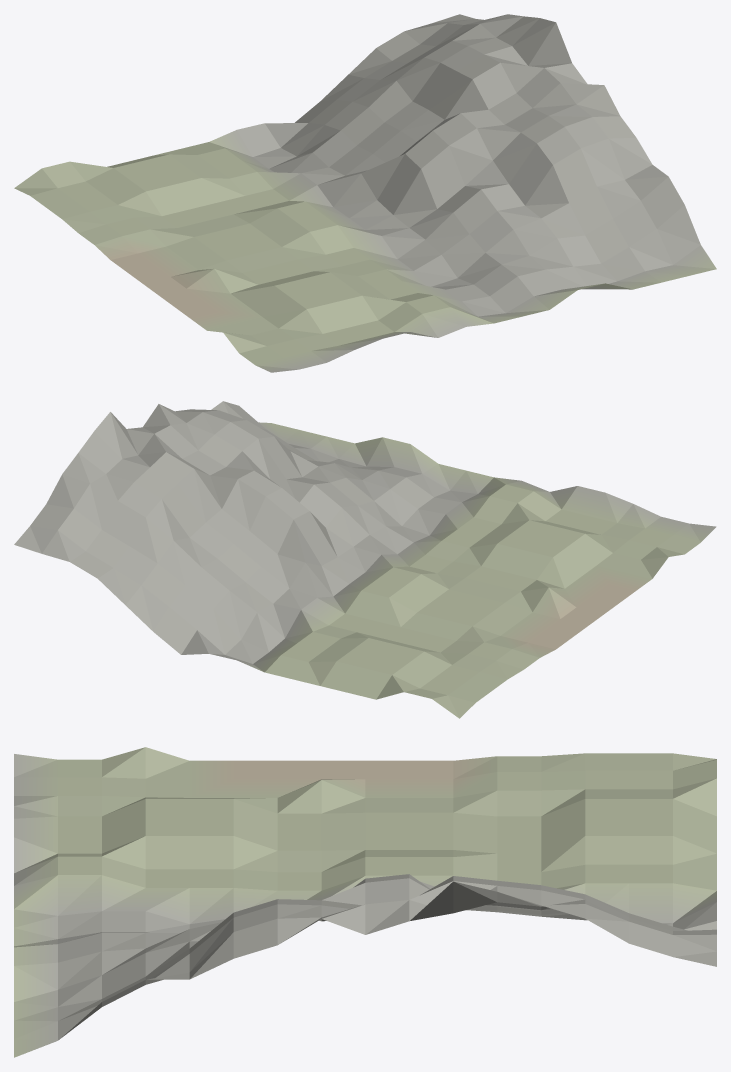
3 views of the same model, one above another, from view 1: azimuth 30°, elevation 25°; view 2: azimuth 150°, elevation 25°; view 3: azimuth 270°, elevation 25° (orthographic). The views are drawn at different scales.
Bounding box in the file's own units: 32 × 9.61 × 32.
